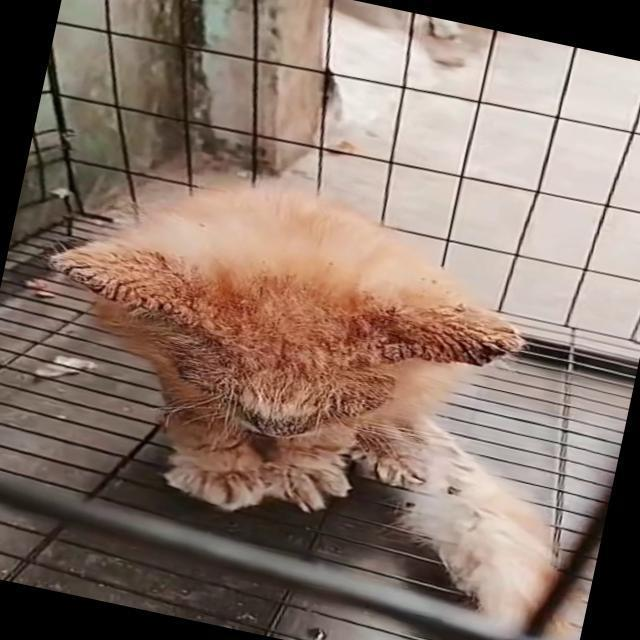ghe: (60, 243, 271, 365), (329, 279, 523, 392), (208, 374, 358, 465)
